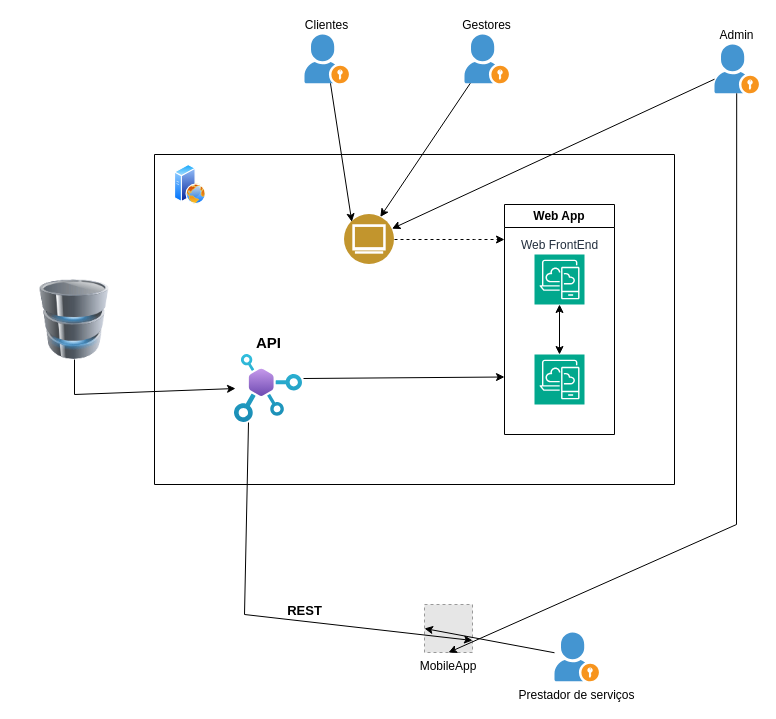
Some shapes in this 776 by 719 pixel diagram are drawn without their labels. Grey dashed boxes stand in for pictures. The centre of each missing label's shape, as x and y in pixels:
"Browser" goes at (x=369, y=239).
"Shared Database" goes at (x=74, y=319).
"Web BackEnd" goes at (x=559, y=379).
"Web Server" goes at (x=190, y=184).
